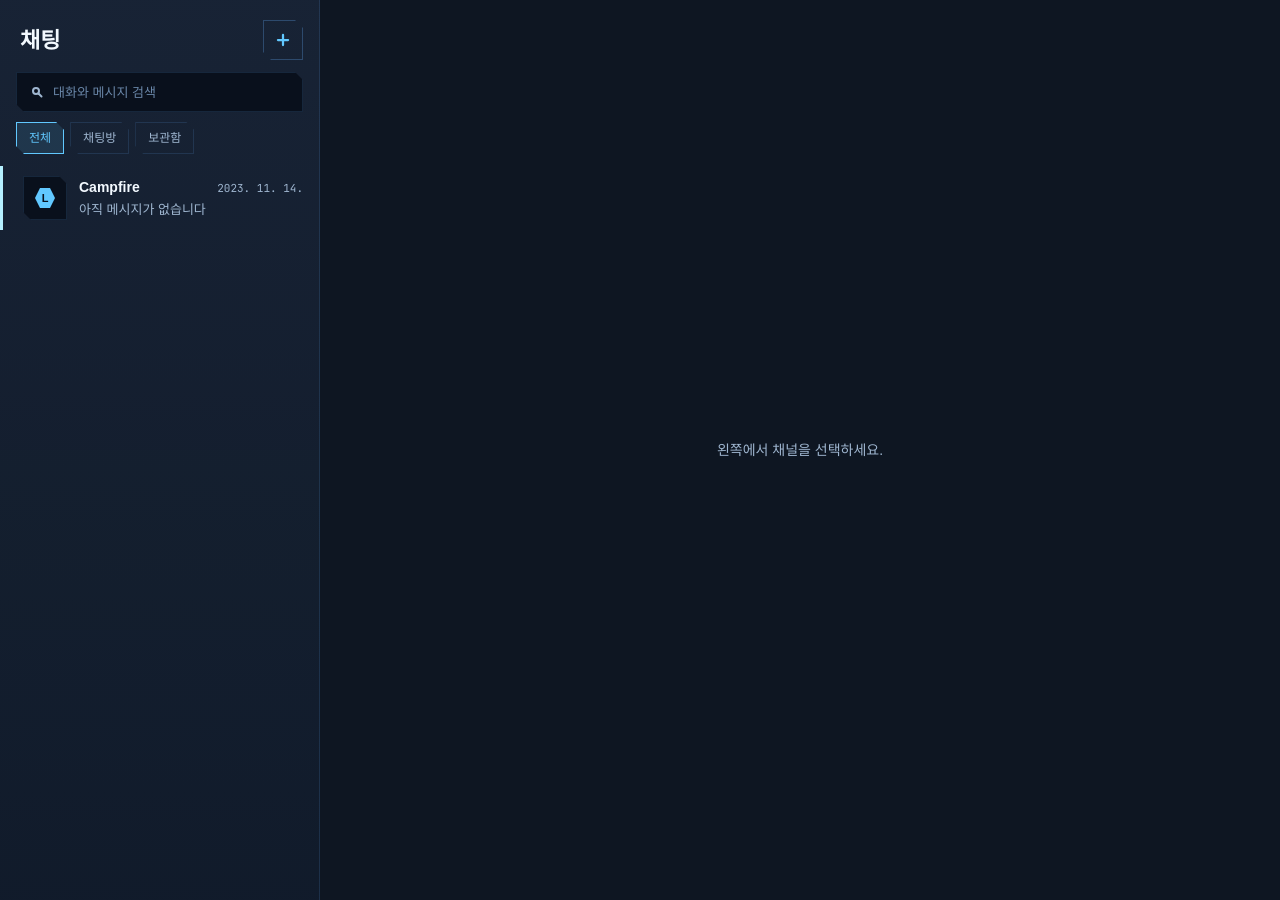
Test: MessengerPage — empty / active rendering (R5-Task3) › opens the conversation picked in the chat list
Click the button with test id "chat-list-row" at (45, 198), box [0,166,319,230]
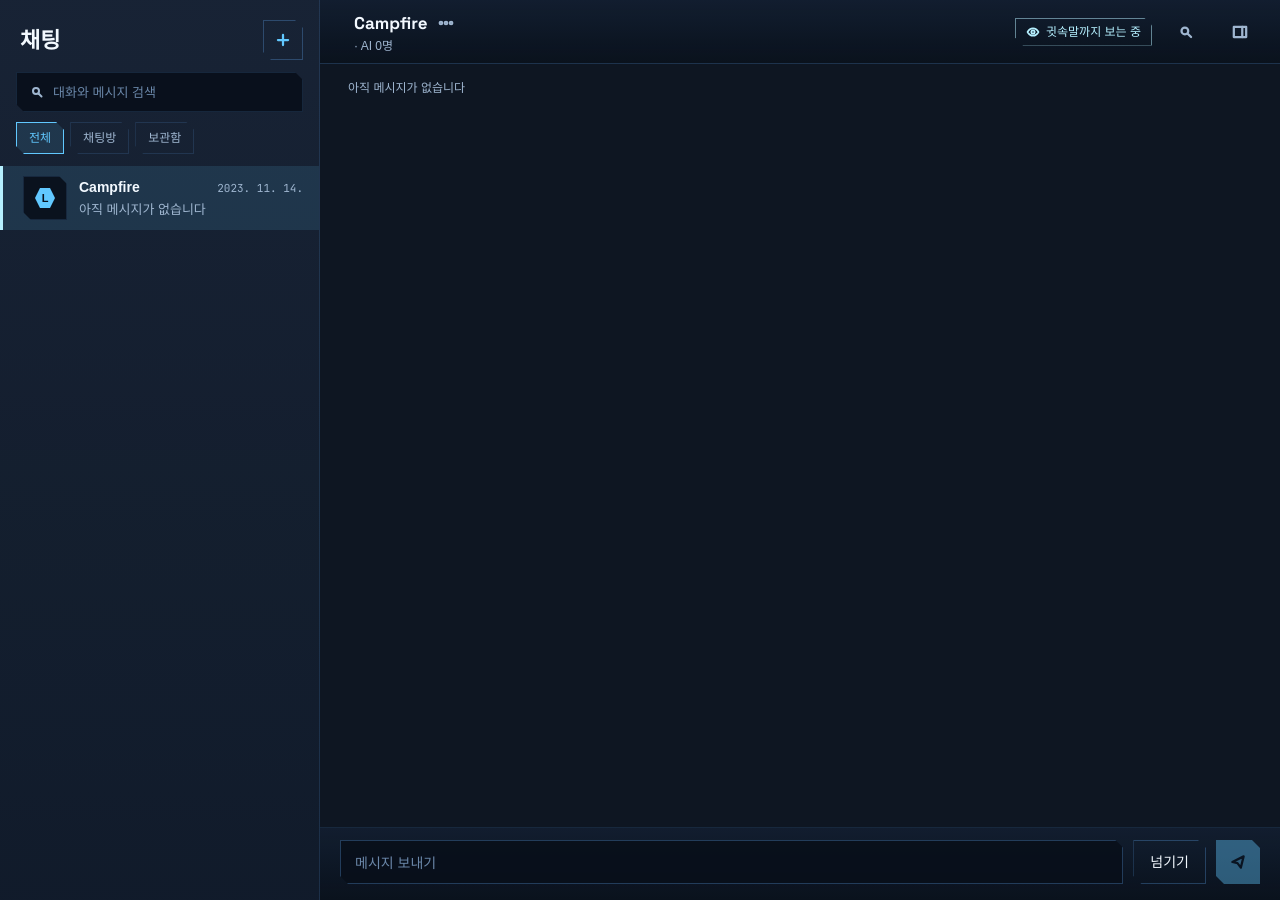
Now the heading with test id "room-title" reads "Campfire", box [354,12,428,34]
